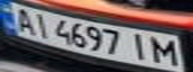4: (51, 16, 72, 45)
6: (66, 20, 87, 48)
7: (103, 26, 127, 56)
9: (81, 24, 106, 53)
A: (9, 6, 39, 34)
I: (127, 30, 154, 62), (27, 11, 54, 38)
M: (148, 34, 184, 66)
